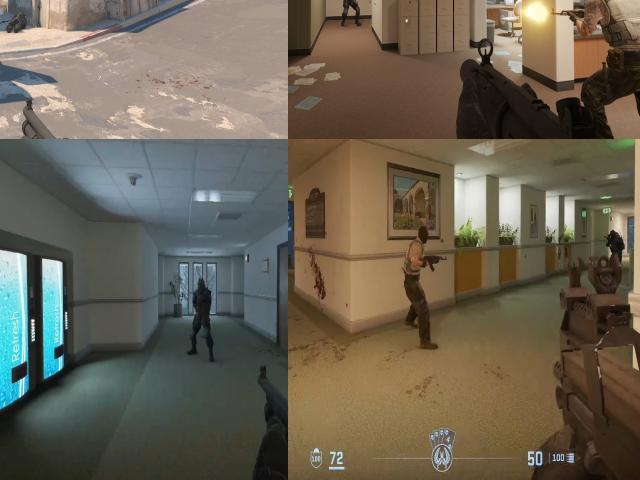CT: (187, 277, 219, 356), (605, 226, 625, 256), (343, 0, 358, 23), (608, 228, 618, 244)
CT-Head: (194, 276, 210, 296)
Dead: (3, 11, 30, 35)
T: (588, 0, 640, 139), (401, 233, 431, 274)
T-Head: (414, 223, 432, 246)
